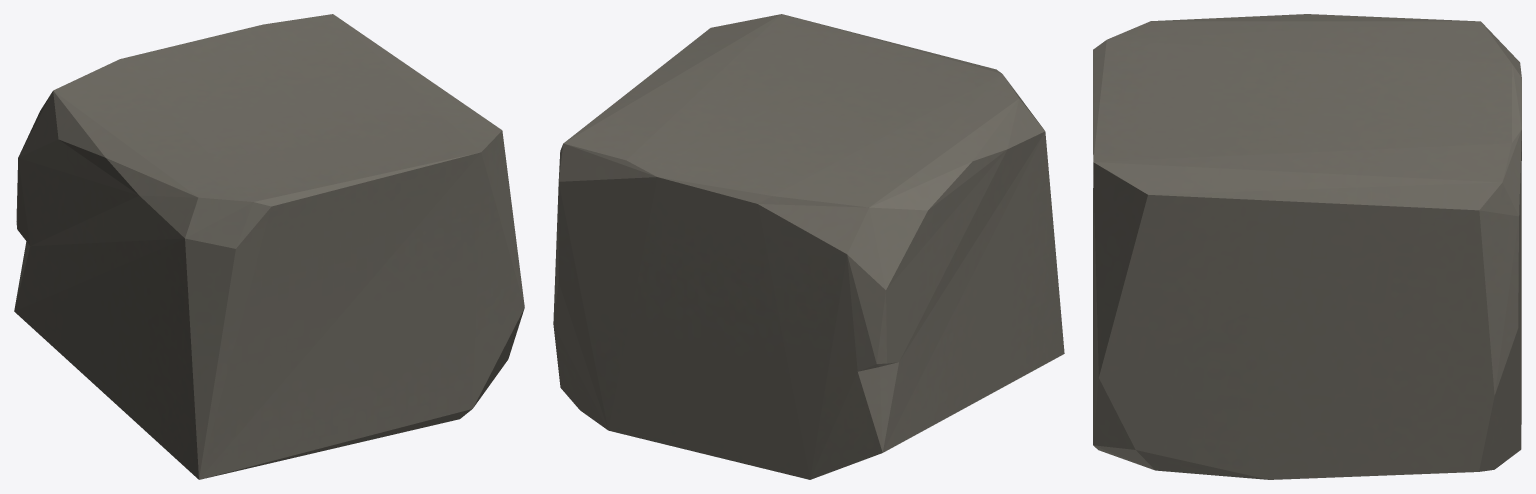
The model's file is Rock_Block_1.fbx.
3 views of the same model, side by side, from view 1: azimuth 30°, elevation 25°; view 2: azimuth 150°, elevation 25°; view 3: azimuth 270°, elevation 25° (orthographic). The views are drawn at different scales.
Visible parts, largest first — view 1: Group44432; view 2: Group44432; view 3: Group44432.
Boxes of the visible parts, x1=… form: Group44432: x1=14, y1=14, x2=524, y2=479; Group44432: x1=553, y1=14, x2=1064, y2=479; Group44432: x1=1093, y1=14, x2=1521, y2=479.
Bounding box in the file's own units: 130 × 99.97 × 130.
Materials: 1 (1 with a texture image).
